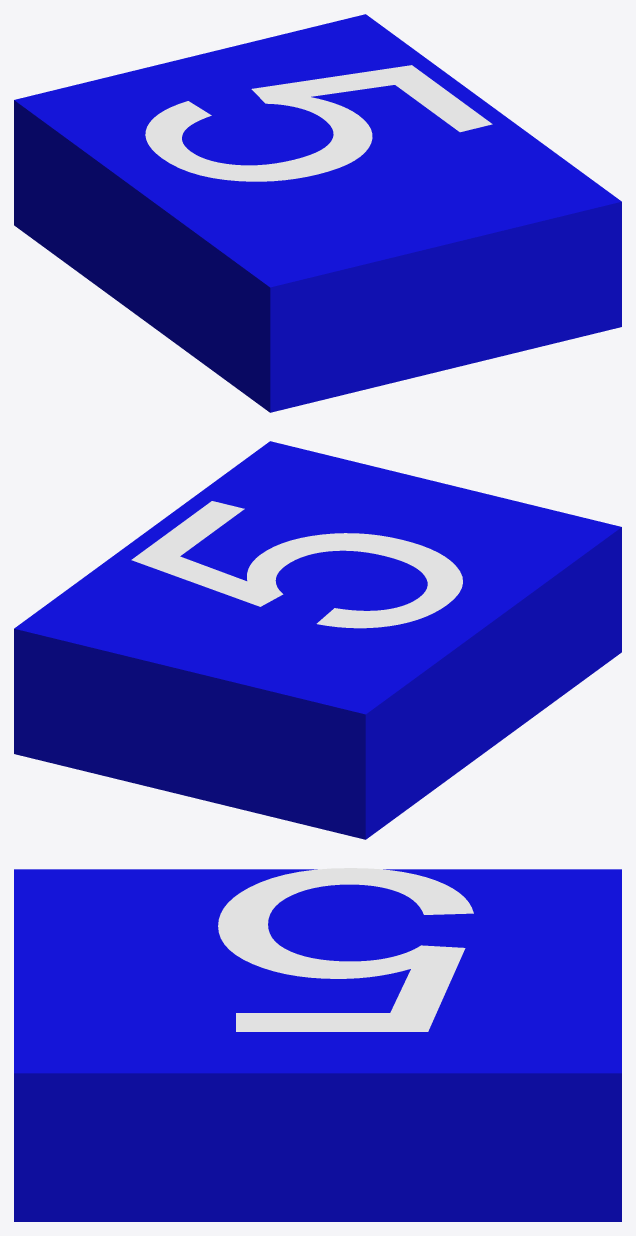
Rendered from number5.FBX.
3 renders of one model, top to bottom at view 1: azimuth 30°, elevation 25°; view 2: azimuth 150°, elevation 25°; view 3: azimuth 270°, elevation 25°, orthographic. The views are drawn at different scales.
Parts seen in each view (by area): view 1: Text001; view 2: Text001; view 3: Text001.
Boxes of the visible parts, left/top/right/bottom form: Text001: left=14, top=14, right=621, bottom=412; Text001: left=14, top=441, right=621, bottom=839; Text001: left=14, top=868, right=621, bottom=1221.
Bounding box in the file's own units: 18.63 × 7.23 × 23.5.
